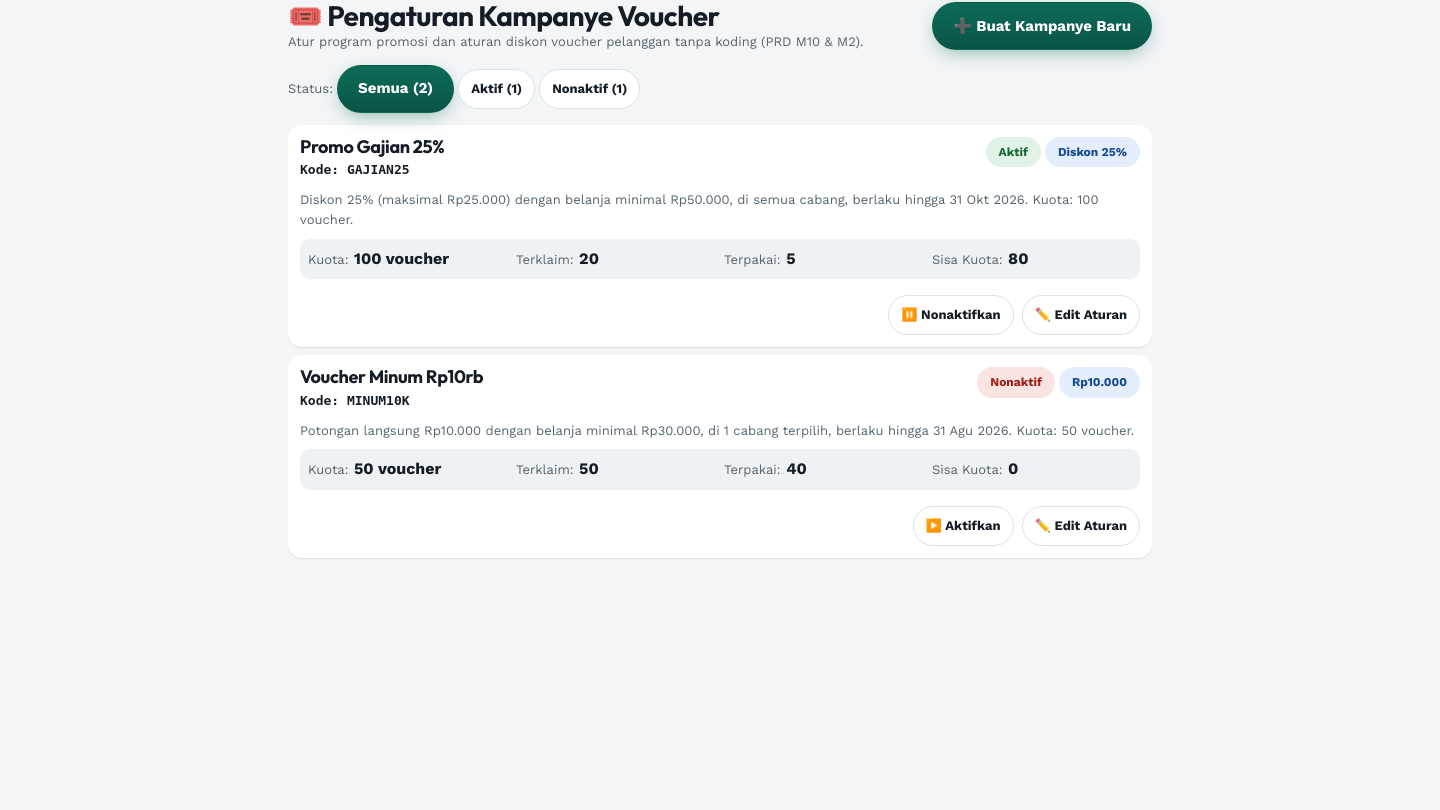
Test: Komponen Kampanye Pengaturan Admin (T8-11) › menolak pembuatan kampanye jika nama kosong atau kode kurang dari 3 karakter
Click the button "➕ Buat Kampanye Baru" at (1042, 26), box [932,2,1152,50]
(page scrolled)
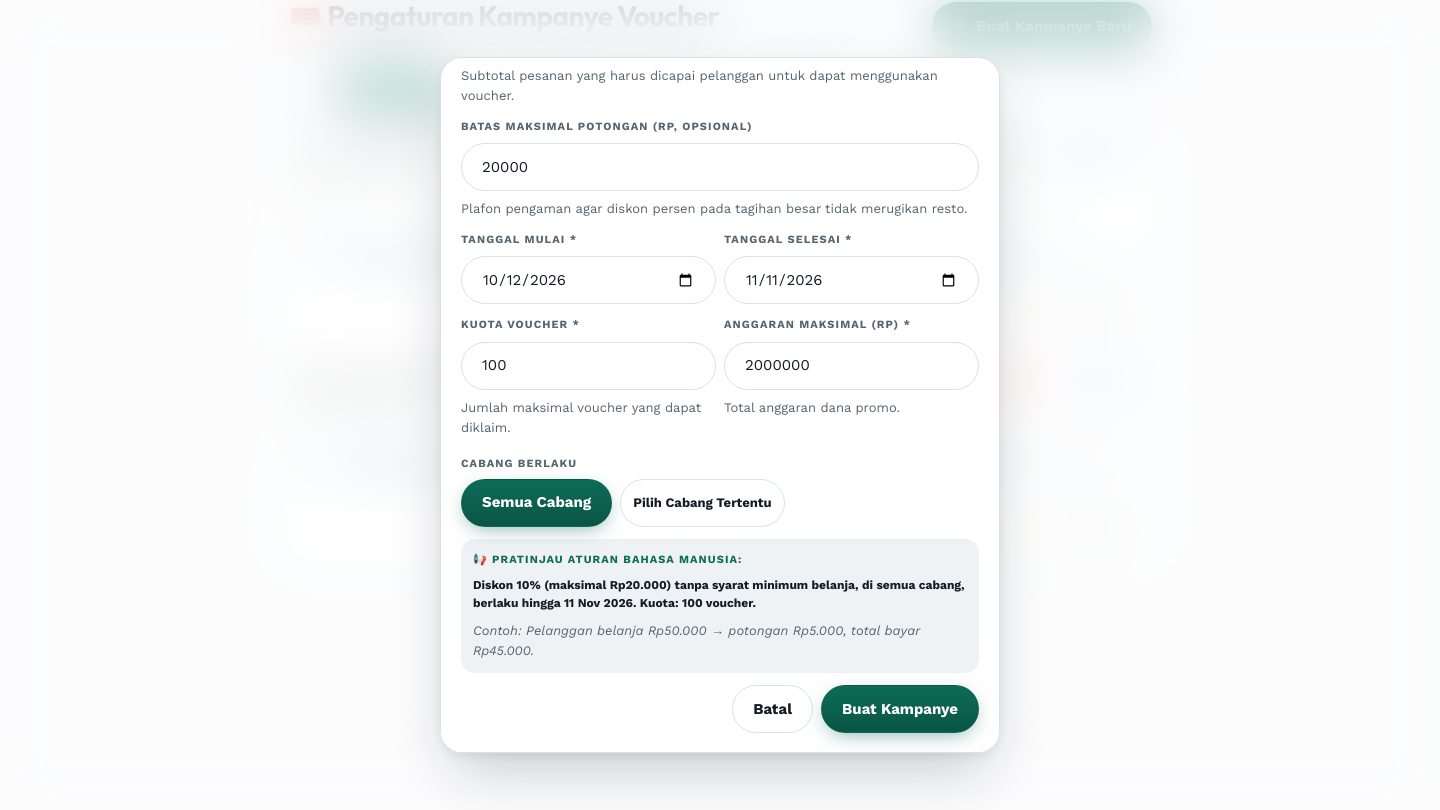
Klik simpan langsung (nama dan kode masih kosong)
Click the button with aria-label "Simpan aturan kampanye" at (900, 709), box [821,685,979,733]
(page scrolled)
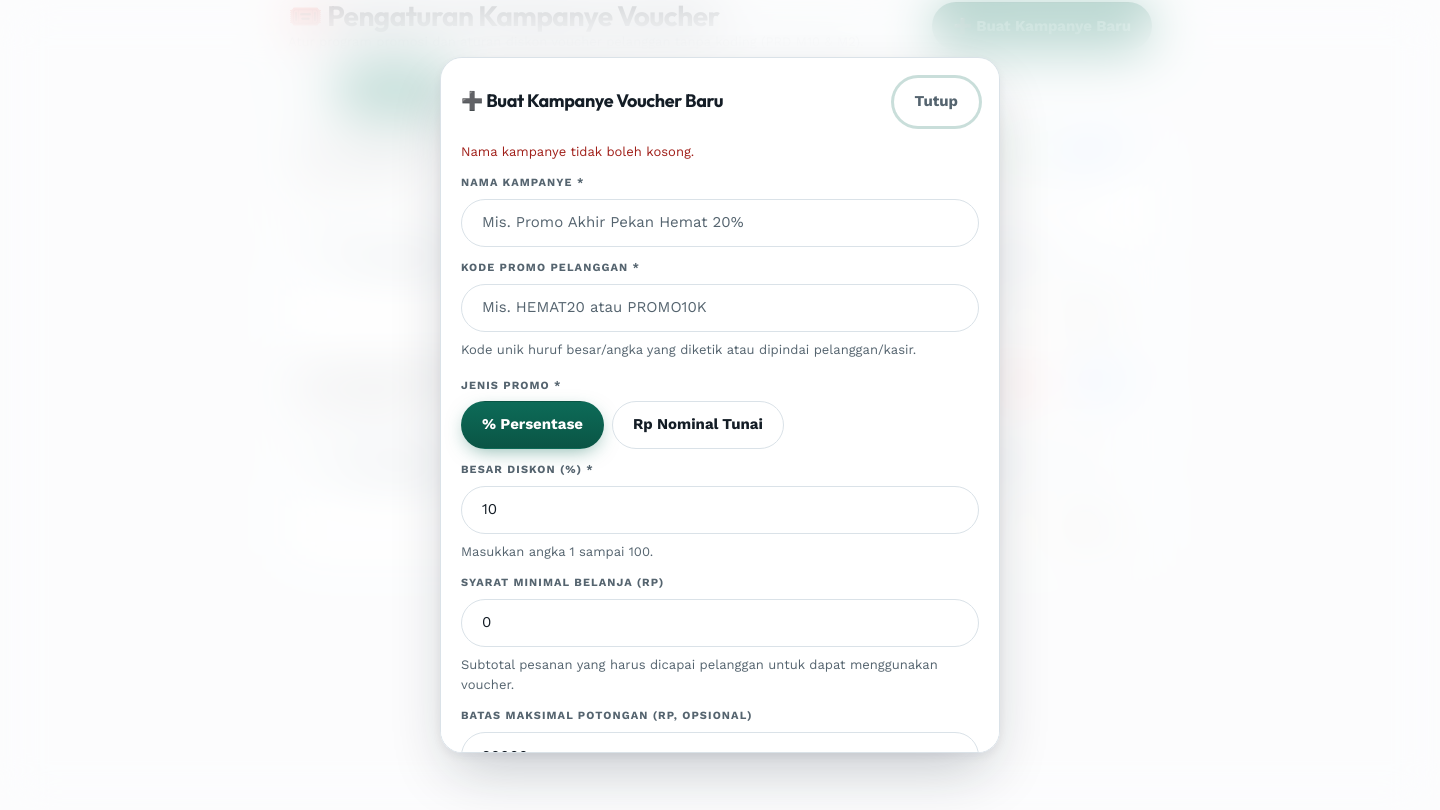
Now the text with test id "form-pesan-galat" shows "Nama kampanye tidak boleh kosong", box [461,144,694,159]
Isi nama, biarkan kode kosong
Type "Promo Baru" into the field labelled "Nama Kampanye *" at (720, 223), box [461,199,979,247]
(page scrolled)
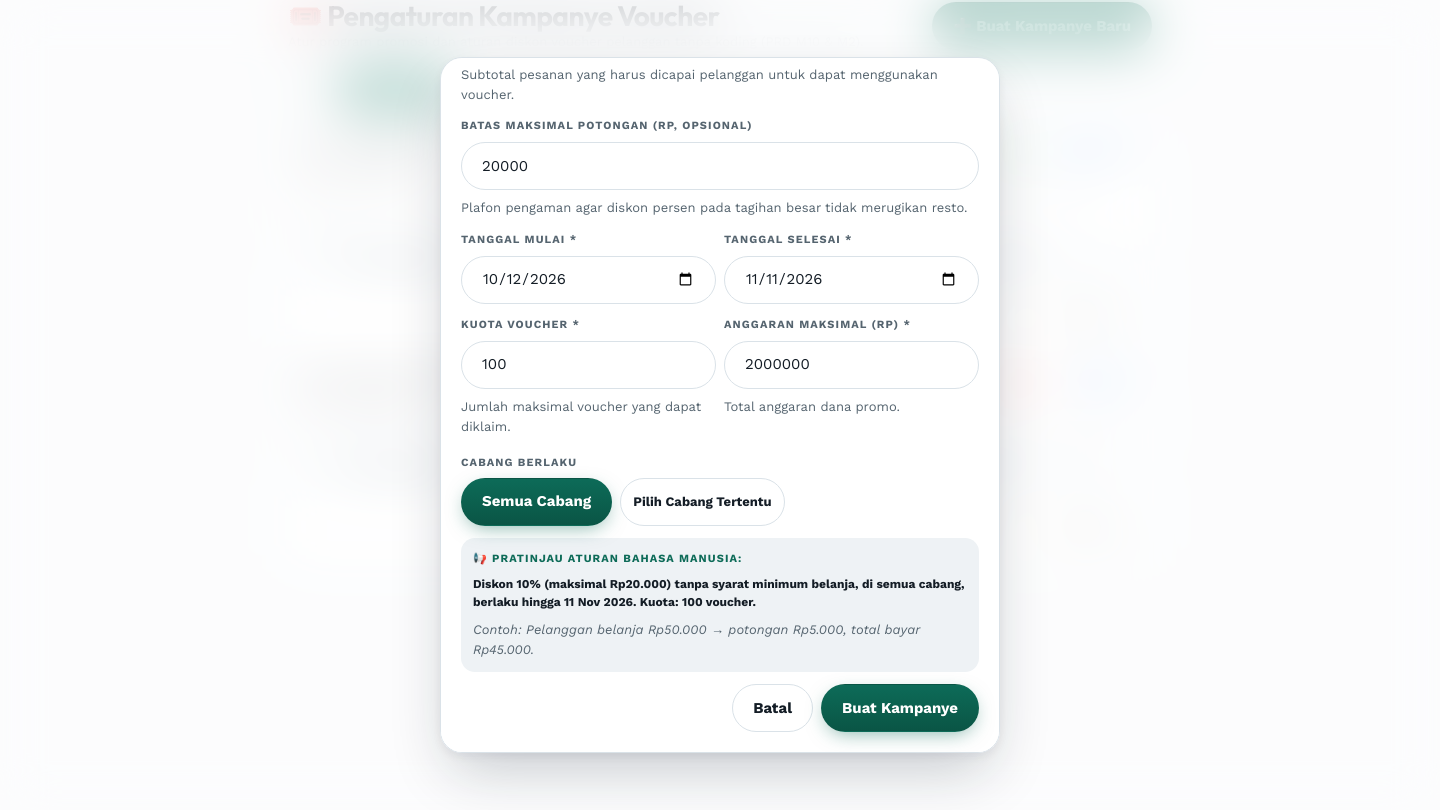
Click the button with aria-label "Simpan aturan kampanye" at (900, 708), box [821,684,979,732]
(page scrolled)
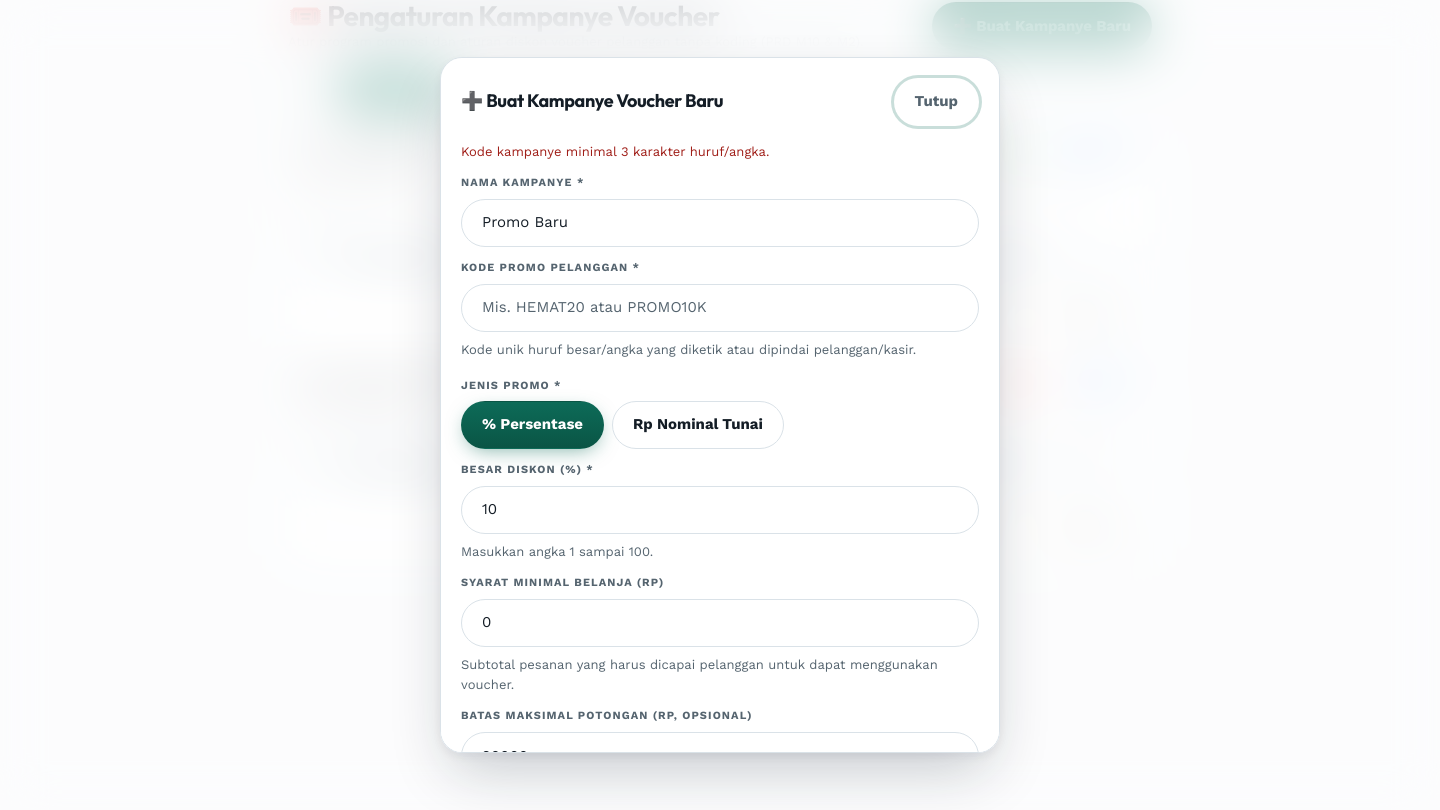
Now the text with test id "form-pesan-galat" shows "Kode kampanye minimal 3 karakter", box [461,144,769,159]
